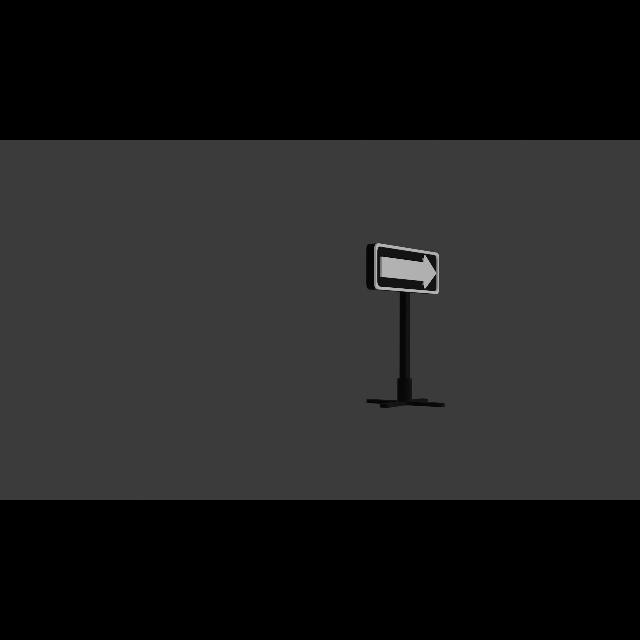sign_oneway_right: (367, 243, 441, 295)
